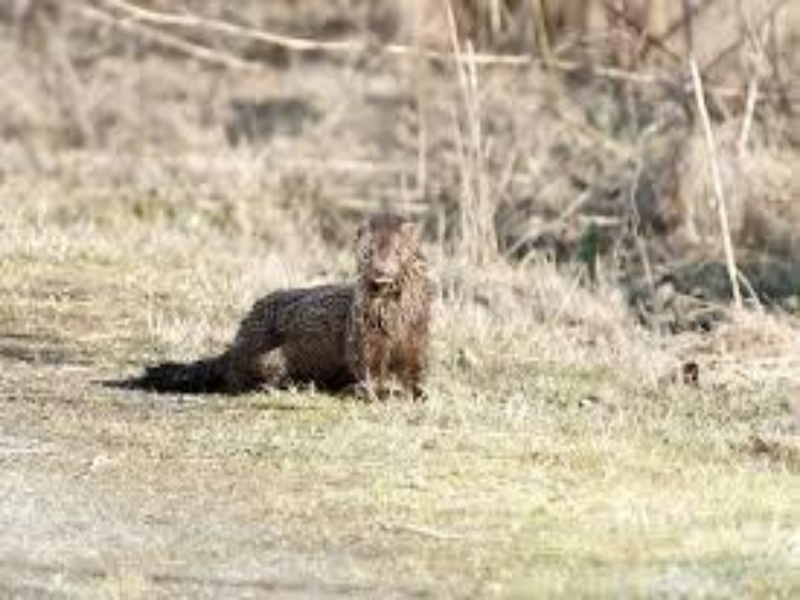minkish: (226, 213, 443, 414)
